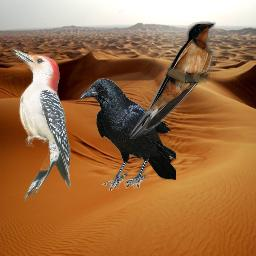Crow: (79, 78, 176, 191)
Swallow: (126, 20, 217, 139)
Woodpecker: (9, 48, 71, 201)
